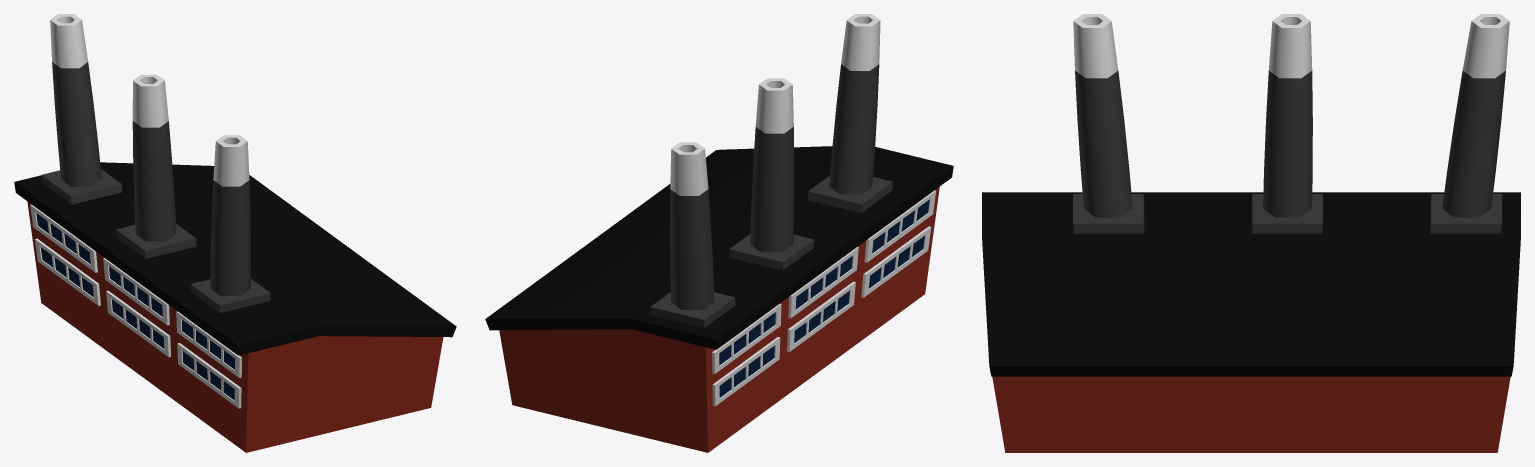
File: Factory.FBX
3 renders of one model, left to right at view 1: azimuth 30°, elevation 25°; view 2: azimuth 150°, elevation 25°; view 3: azimuth 270°, elevation 25°, orthographic. The views are drawn at different scales.
Parts seen in each view (by area): view 1: Box010, Box006, Box001, Tube001, Tube002, Tube003, Box004, Box009, Box005, Box003, Box007, Box011 (+3 smaller); view 2: Box001, Box006, Box010, Tube003, Tube002, Tube001, Box009, Box004, Box005, Box011, Box007, Box003 (+3 smaller); view 3: Box001, Box006, Box010, Tube003, Tube002, Tube001, Box002, Box012, Box008.
Boxes of the visible parts, bbox=[...] form: Box010: bbox=[164, 272, 456, 452]; Box006: bbox=[88, 218, 383, 402]; Box001: bbox=[14, 162, 311, 352]; Tube001: bbox=[50, 14, 101, 186]; Tube002: bbox=[132, 74, 176, 241]; Tube003: bbox=[210, 135, 250, 295]; Box004: bbox=[35, 238, 100, 305]; Box009: bbox=[177, 343, 241, 408]; Box005: bbox=[106, 290, 170, 357]; Box003: bbox=[30, 204, 97, 272]; Box007: bbox=[103, 258, 169, 325]; Box011: bbox=[176, 311, 241, 377]; Box001: bbox=[485, 260, 796, 452]; Box006: bbox=[564, 203, 875, 399]; Box010: bbox=[640, 146, 953, 346]; Tube003: bbox=[829, 14, 880, 194]; Tube002: bbox=[750, 78, 794, 252]; Tube001: bbox=[670, 142, 714, 309]; Box009: bbox=[861, 226, 931, 297]; Box004: bbox=[712, 337, 780, 406]; Box005: bbox=[787, 281, 855, 351]; Box011: bbox=[864, 190, 935, 262]; Box007: bbox=[788, 247, 858, 318]; Box003: bbox=[712, 303, 781, 373]; Box001: bbox=[1331, 192, 1520, 452]; Box006: bbox=[1160, 192, 1342, 452]; Box010: bbox=[982, 192, 1171, 452]; Tube003: bbox=[1073, 14, 1132, 217]; Tube002: bbox=[1263, 14, 1312, 217]; Tube001: bbox=[1442, 14, 1509, 217]; Box002: bbox=[1430, 194, 1501, 233]; Box012: bbox=[1073, 194, 1144, 233]; Box008: bbox=[1252, 194, 1322, 233].
Bounding box in the file's own units: 215 × 260 × 377.
